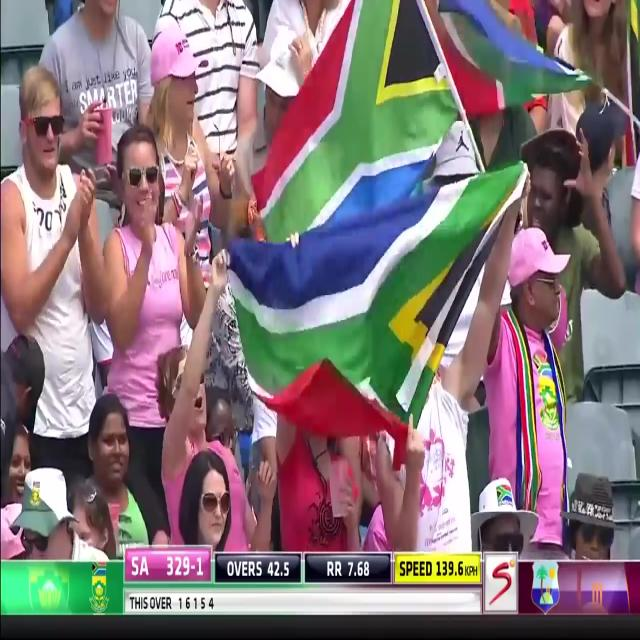Ball: (72, 2, 505, 554)
